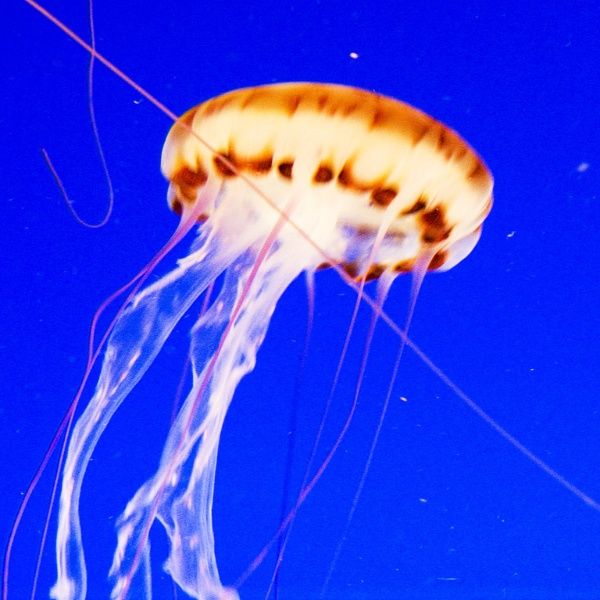Jellyfish: (2, 81, 494, 599)
